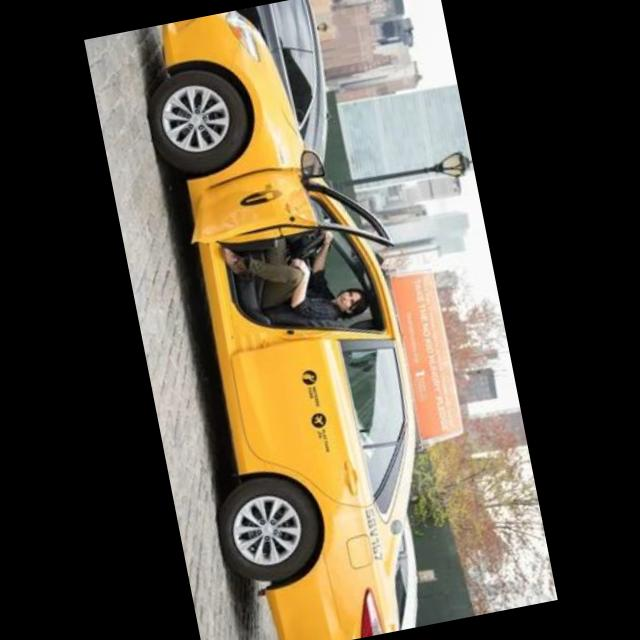taxi: (122, 1, 467, 640)
